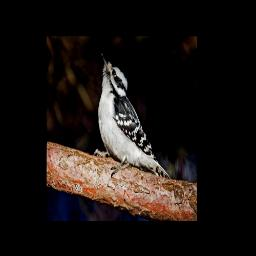Woodpecker: (92, 51, 170, 179)
